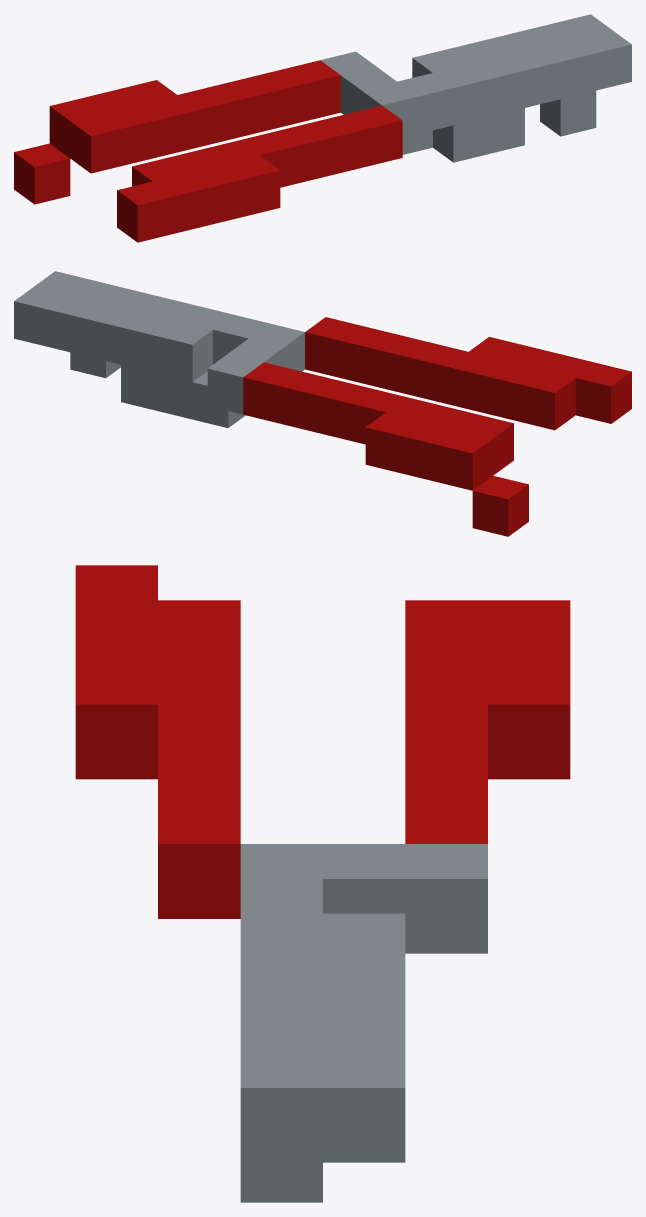
File: wire_strippers.glb
3 renders of one model, top to bottom at view 1: azimuth 30°, elevation 25°; view 2: azimuth 150°, elevation 25°; view 3: azimuth 270°, elevation 25°, orthographic. The views are drawn at different scales.
Parts seen in each view (by area): view 1: equipment:pliers; view 2: equipment:pliers; view 3: equipment:pliers.
Part boxes in pixels (x1,y1,x2,y2): equipment:pliers: [14, 14, 631, 242]; equipment:pliers: [14, 271, 631, 536]; equipment:pliers: [75, 565, 570, 1202].
Size of the model in its own units: 0.15 by 0.02 by 0.06.
